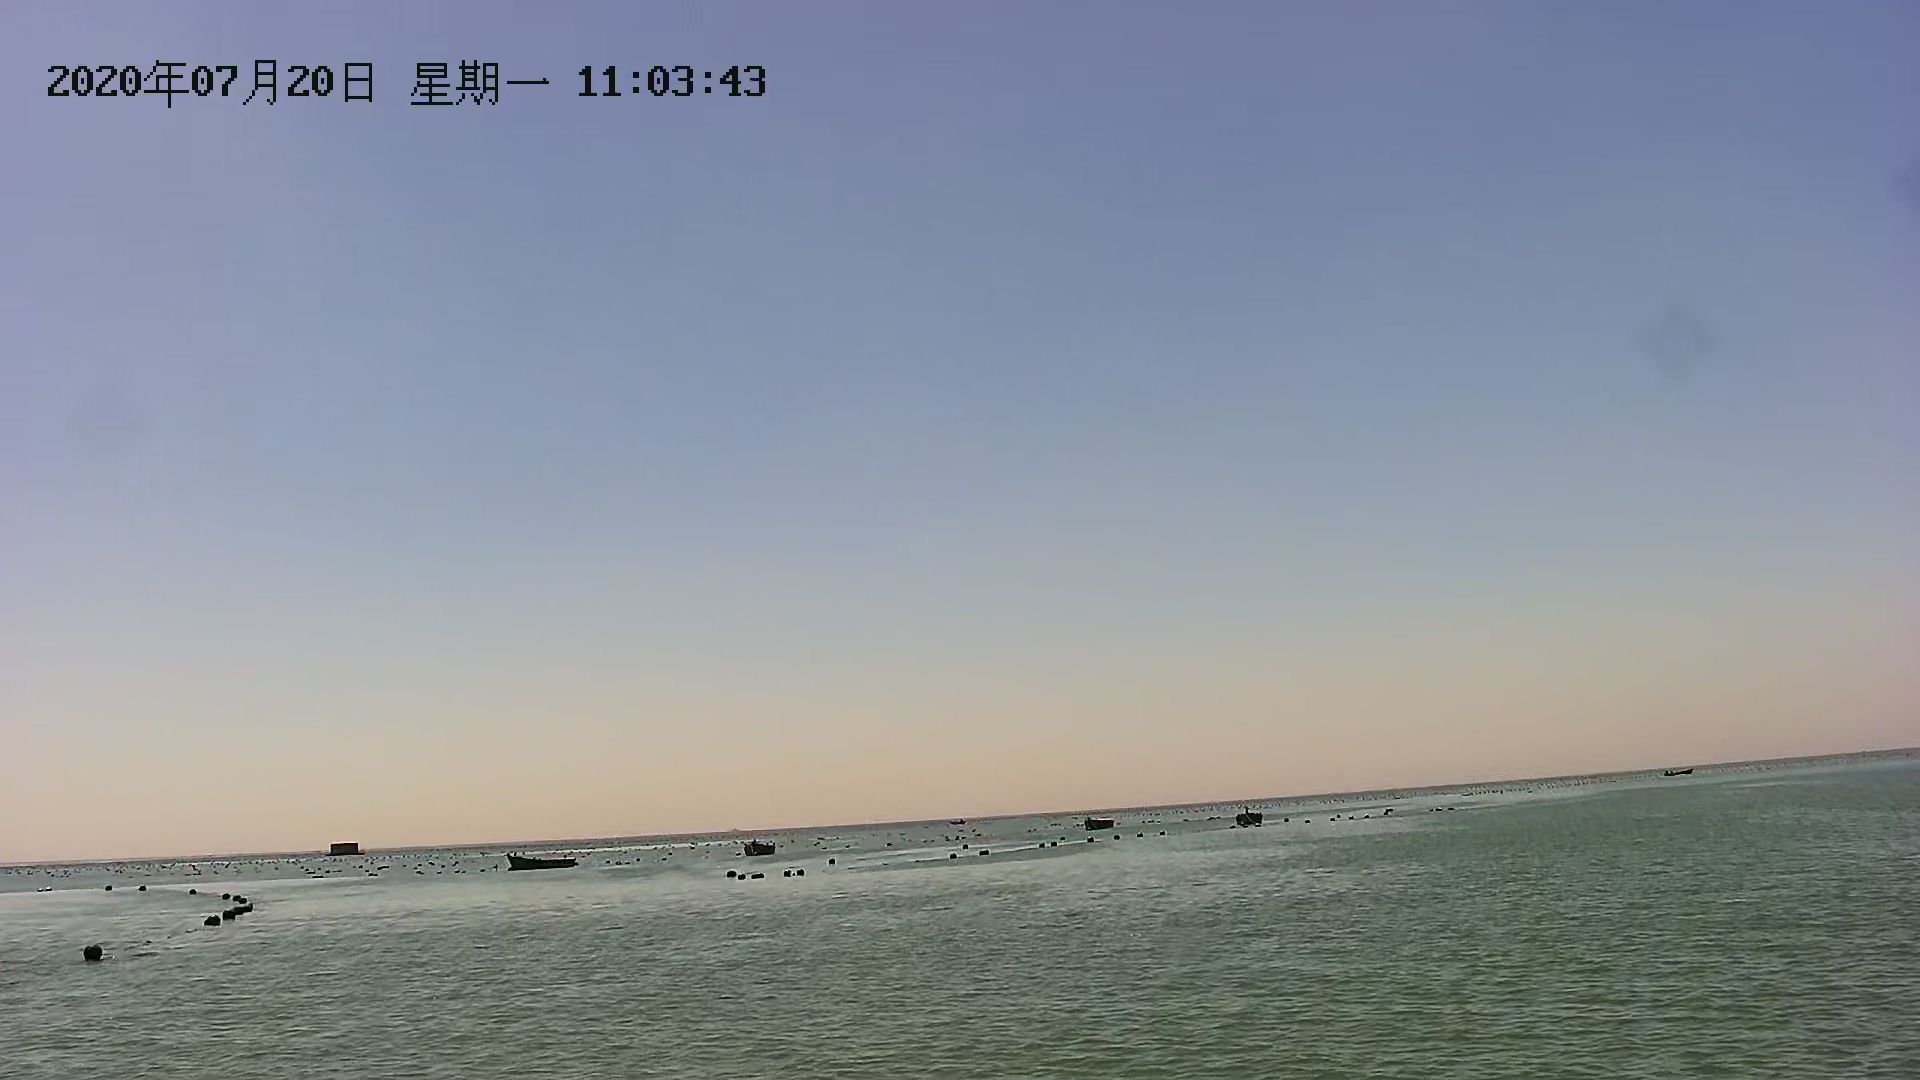ball: (78, 935, 107, 968), (196, 915, 225, 928)
boat: (500, 848, 582, 878), (1225, 804, 1269, 839), (1071, 812, 1120, 837), (735, 837, 787, 860), (1664, 761, 1696, 783)
platform: (324, 836, 367, 861)
